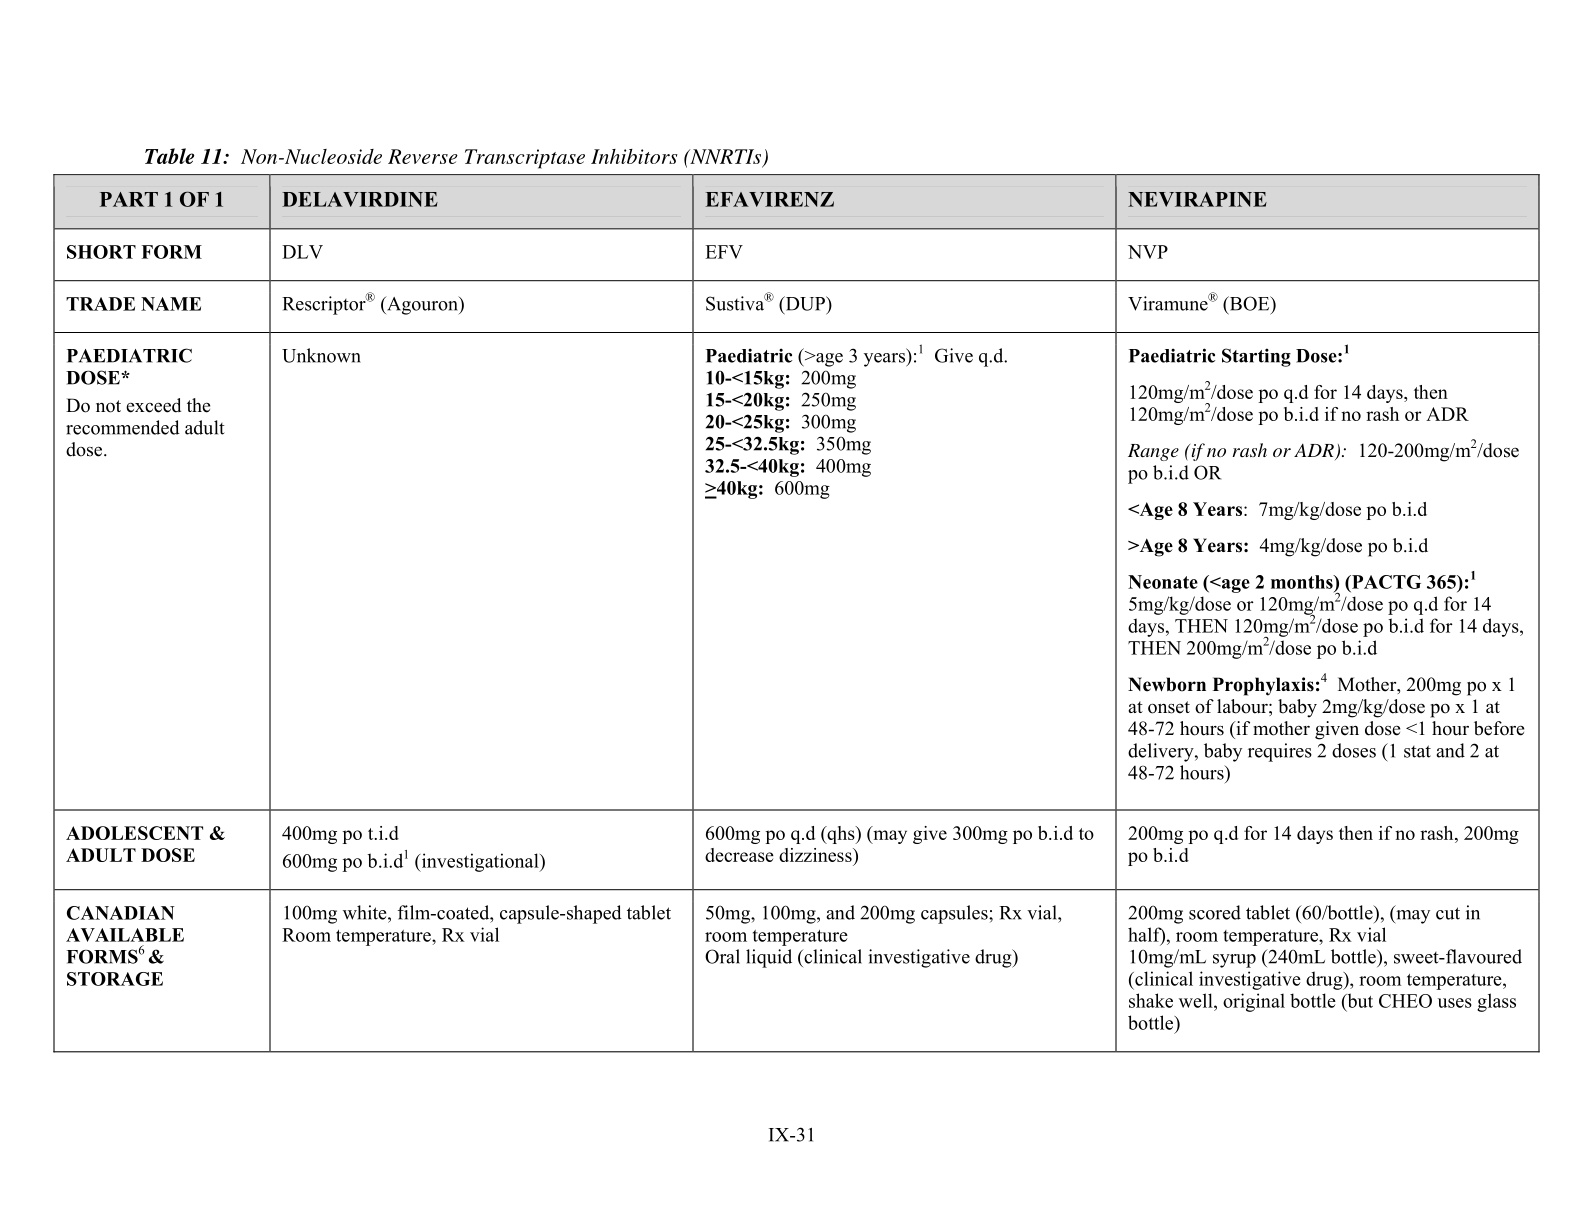full_lined: (53, 174, 1540, 1053)
